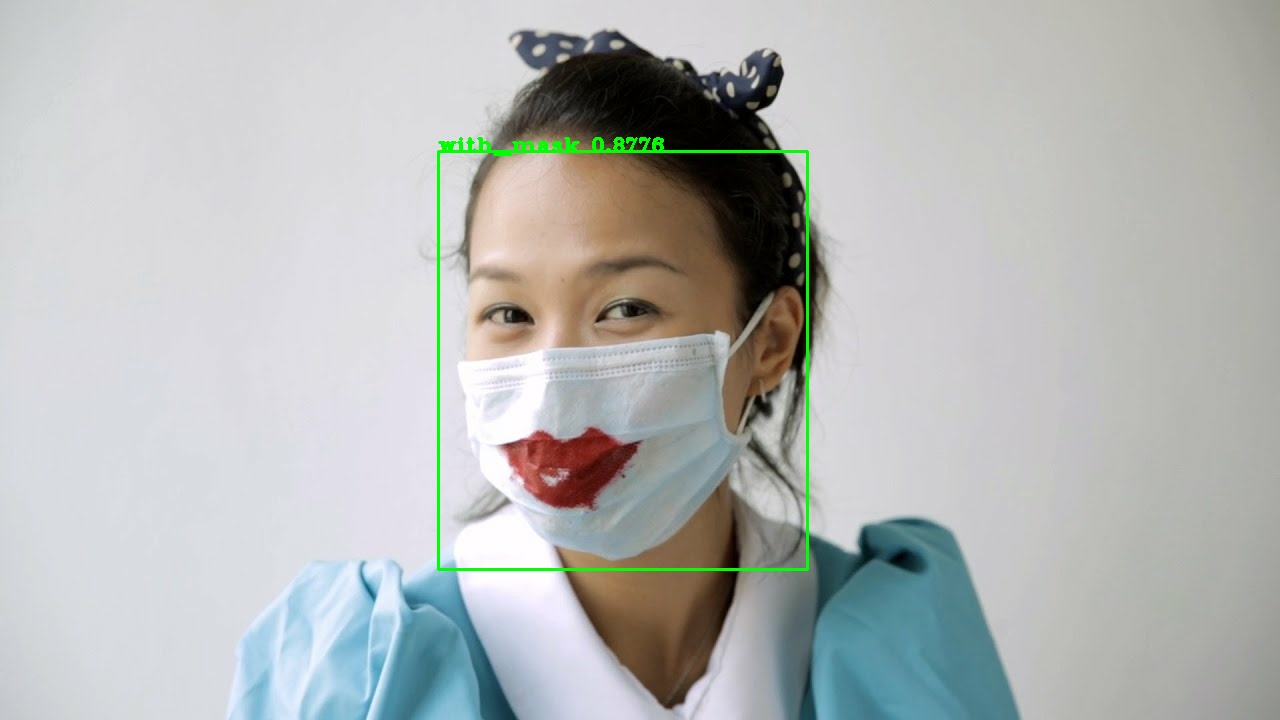with_mask: (430, 87, 830, 556)
